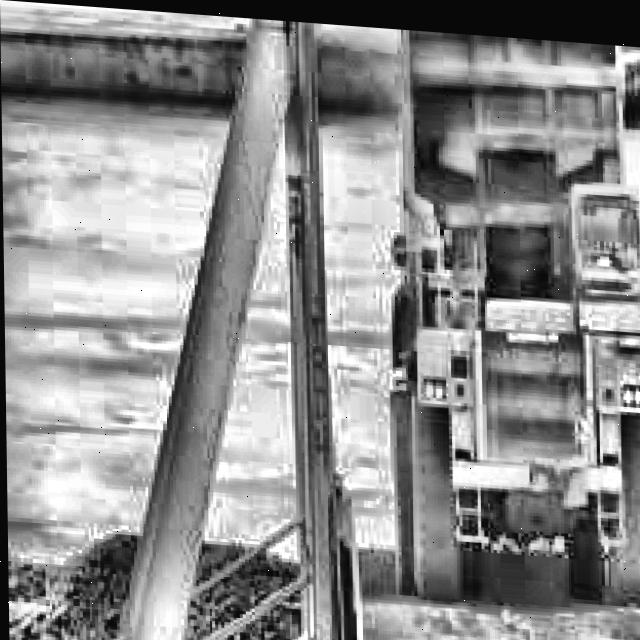dump_truck: (376, 22, 640, 594)
